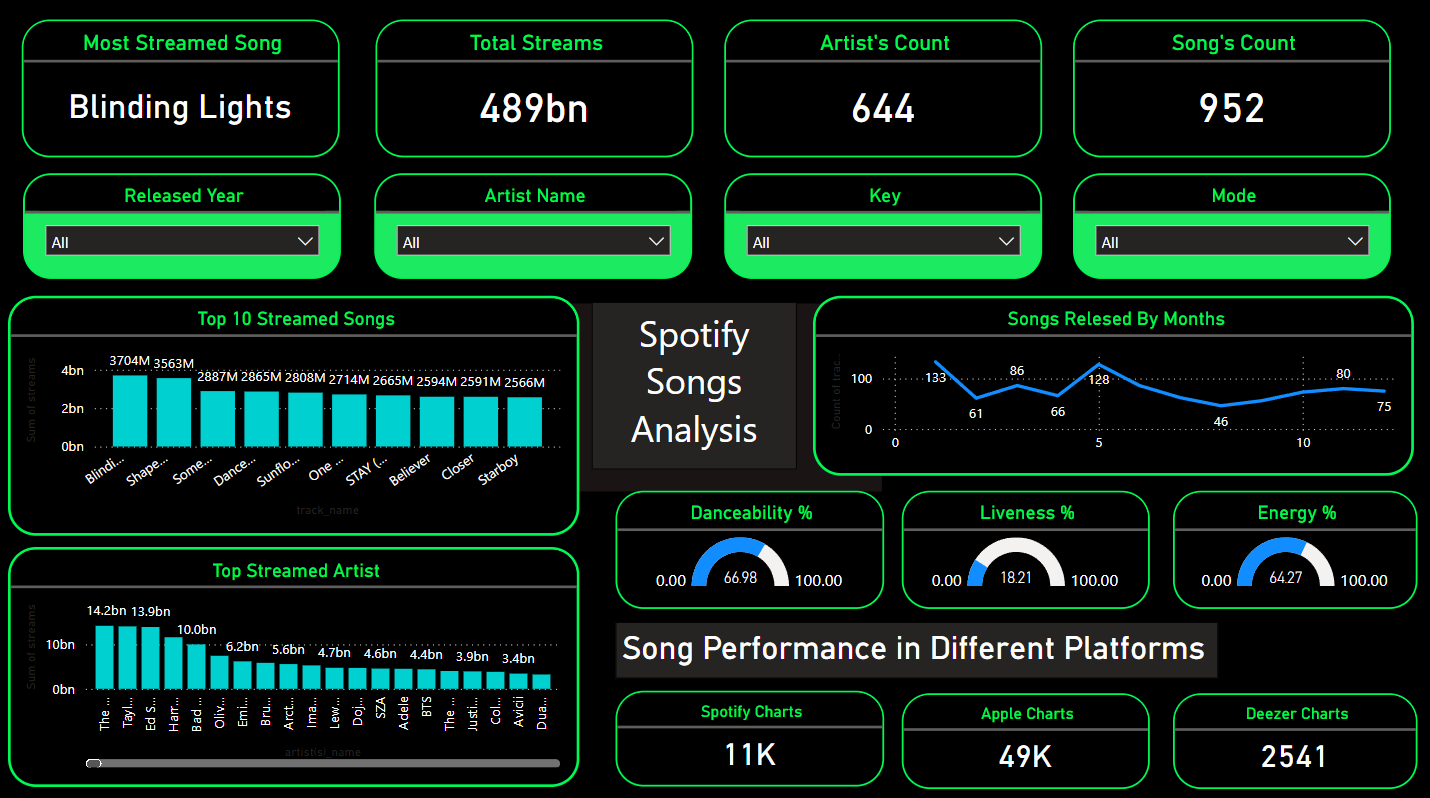

The page's visual inventory and layout, read from the dashboard file:
{"tool":"powerbi","page":{"name":"Page 1","canvas":[1280,720],"ordinal":0},"visuals":[{"type":"card","title":"Most Streamed Song","fields":{"Values":["Popular_Spotify_Songs.Most Streamed Song"]},"box":[21.4,20,284.3,122.9],"z":0},{"type":"columnChart","title":"Top 10 Streamed Songs","fields":{"Category":["Popular_Spotify_Songs.track_name"],"Y":["Popular_Spotify_Songs.streams"]},"box":[8.6,267.1,510,214.3],"z":1000},{"type":"columnChart","title":"Top Streamed Artist","fields":{"Category":["Popular_Spotify_Songs.artist(s)_name"],"Y":["Popular_Spotify_Songs.streams"]},"box":[8.6,491.4,510,214.3],"z":2000},{"type":"card","title":"Spotify Charts","fields":{"Values":["Popular_Spotify_Songs.in_spotify_charts"]},"box":[551.4,620,240,85.7],"z":3000},{"type":"card","title":"Apple Charts","fields":{"Values":["Popular_Spotify_Songs.in_apple_charts"]},"box":[807.1,621.4,221.4,85.7],"z":4000},{"type":"card","title":"Deezer Charts","fields":{"Values":["Popular_Spotify_Songs.in_deezer_charts"]},"box":[1050,621.4,218.6,85.7],"z":5000},{"type":"gauge","title":"Danceability %","fields":{"Y":["Popular_Spotify_Songs.danceability_%"]},"box":[551.4,441.4,240,105.7],"z":6000},{"type":"gauge","title":"Energy %","fields":{"Y":["Popular_Spotify_Songs.energy_%"]},"box":[1050,441.4,218.6,105.7],"z":7000},{"type":"gauge","title":"Liveness %","fields":{"Y":["Popular_Spotify_Songs.liveness_%"]},"box":[807.1,441.4,221.4,105.7],"z":8000},{"type":"card","title":"Total Streams","fields":{"Values":["Popular_Spotify_Songs.streams"]},"box":[337.1,20,284.3,122.9],"z":9000},{"type":"textbox","box":[551.4,558.6,538.6,50],"z":9001},{"type":"card","title":"Artist''s Count","fields":{"Values":["Popular_Spotify_Songs.artist(s)_name"]},"box":[648.6,20.4,284.3,122.9],"z":9002},{"type":"card","title":"Song''s Count","fields":{"Values":["Popular_Spotify_Songs.track_name"]},"box":[960,20,284.3,122.9],"z":9003},{"type":"slicer","title":"Released Year","fields":{"Values":["Popular_Spotify_Songs.released_year"]},"box":[22.9,157.1,284.3,94.3],"z":9004},{"type":"slicer","title":"Artist Name","fields":{"Values":["Popular_Spotify_Songs.artist(s)_name"]},"box":[335.7,157.1,284.3,94.3],"z":9005},{"type":"slicer","title":"Key","fields":{"Values":["Popular_Spotify_Songs.key"]},"box":[648.6,157.1,284.3,94.3],"z":9006},{"type":"slicer","title":"Mode","fields":{"Values":["Popular_Spotify_Songs.mode"]},"box":[960,157.1,284.3,94.3],"z":9007},{"type":"lineChart","title":"Songs Relesed By Months","fields":{"Y":["Popular_Spotify_Songs.track_name"],"Category":["Popular_Spotify_Songs.released_month"]},"box":[717.1,267.1,537.1,160],"z":9008}]}

Visuals, with their boxes in screenshot pixels (x1, y1, x2, y2), scaled from the page's 1280x720 canvas onto the 1430x798 screenshot:
"Most Streamed Song" card: Rect(24, 22, 342, 158)
"Top 10 Streamed Songs" columnChart: Rect(10, 296, 579, 534)
"Top Streamed Artist" columnChart: Rect(10, 545, 579, 782)
"Spotify Charts" card: Rect(616, 687, 884, 782)
"Apple Charts" card: Rect(902, 689, 1149, 784)
"Deezer Charts" card: Rect(1173, 689, 1417, 784)
"Danceability %" gauge: Rect(616, 489, 884, 606)
"Energy %" gauge: Rect(1173, 489, 1417, 606)
"Liveness %" gauge: Rect(902, 489, 1149, 606)
"Total Streams" card: Rect(377, 22, 694, 158)
textbox: Rect(616, 619, 1218, 675)
"Artist''s Count" card: Rect(725, 23, 1042, 159)
"Song''s Count" card: Rect(1072, 22, 1390, 158)
"Released Year" slicer: Rect(26, 174, 343, 279)
"Artist Name" slicer: Rect(375, 174, 693, 279)
"Key" slicer: Rect(725, 174, 1042, 279)
"Mode" slicer: Rect(1072, 174, 1390, 279)
"Songs Relesed By Months" lineChart: Rect(801, 296, 1401, 473)
